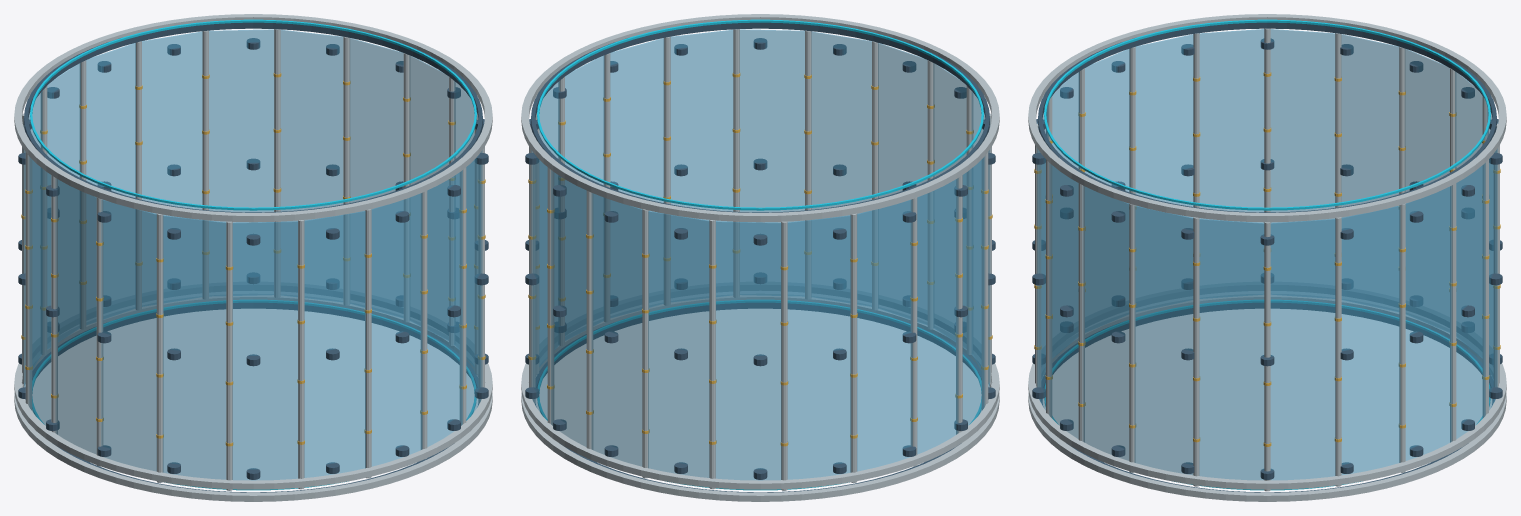
The model's file is 01_L81_TransparentDigitalFaultObservatory.fbx.
3 renders of one model, left to right at view 1: azimuth 30°, elevation 25°; view 2: azimuth 150°, elevation 25°; view 3: azimuth 270°, elevation 25°, orthographic.
Parts seen in each view (by area): view 1: TransparentDigitalFaultObservatory; view 2: TransparentDigitalFaultObservatory; view 3: TransparentDigitalFaultObservatory.
Boxes of the visible parts, x1,y1,x2,y2 form: TransparentDigitalFaultObservatory: (14, 14, 492, 501); TransparentDigitalFaultObservatory: (521, 14, 999, 501); TransparentDigitalFaultObservatory: (1028, 14, 1506, 501).
Bounding box in the file's own units: 640 × 428 × 640.
